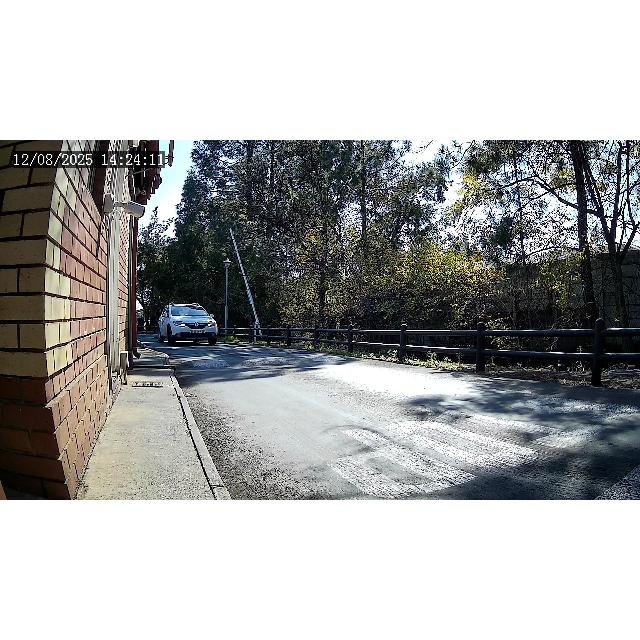car: (157, 302, 219, 346)
plate: (188, 330, 206, 334)
